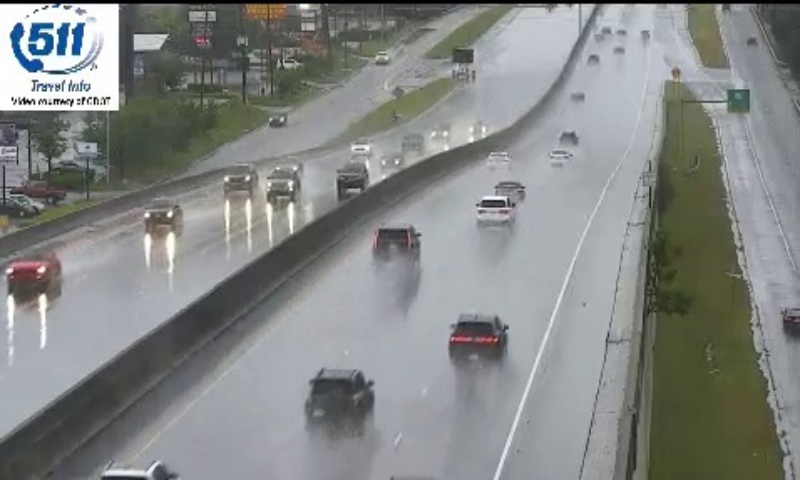car: (304, 369, 374, 424), (450, 314, 507, 358), (373, 226, 420, 262), (475, 196, 515, 226), (495, 180, 525, 203)
